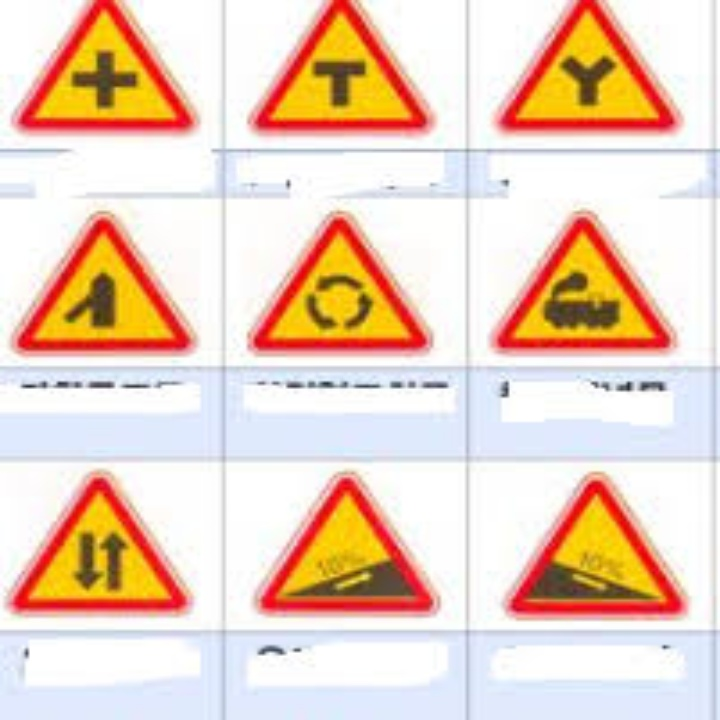inter: (69, 46, 143, 110)
